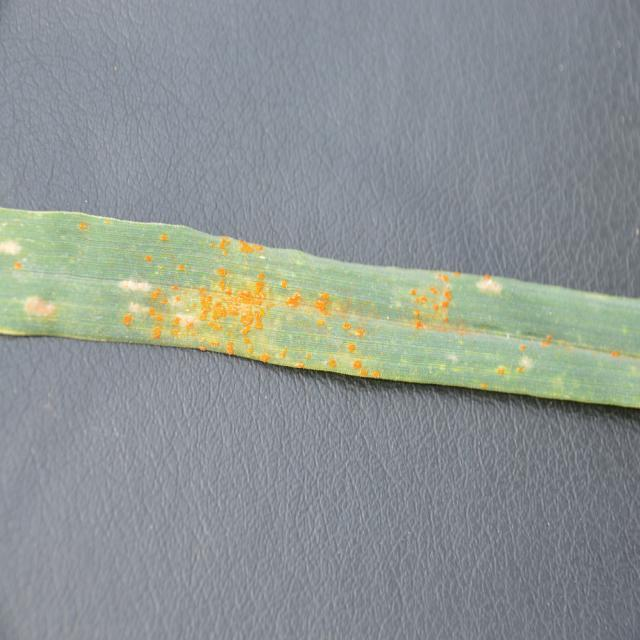wheat-powdery-mildew: (0, 208, 640, 413)
